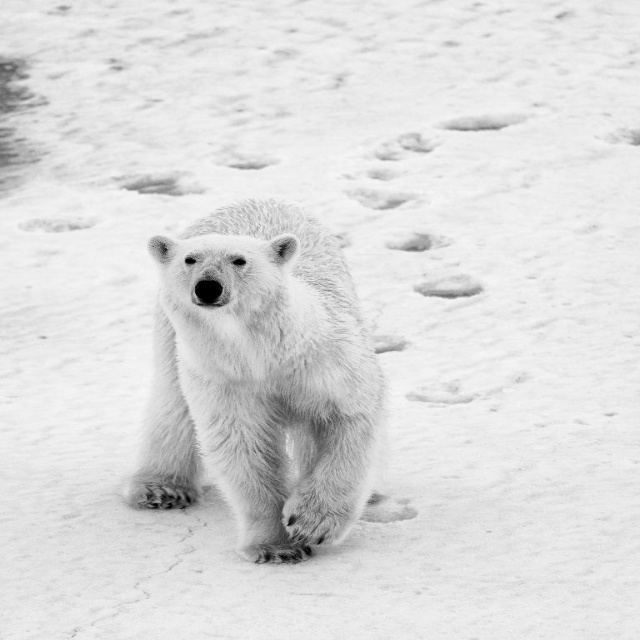Polar bear: (131, 195, 389, 564)
